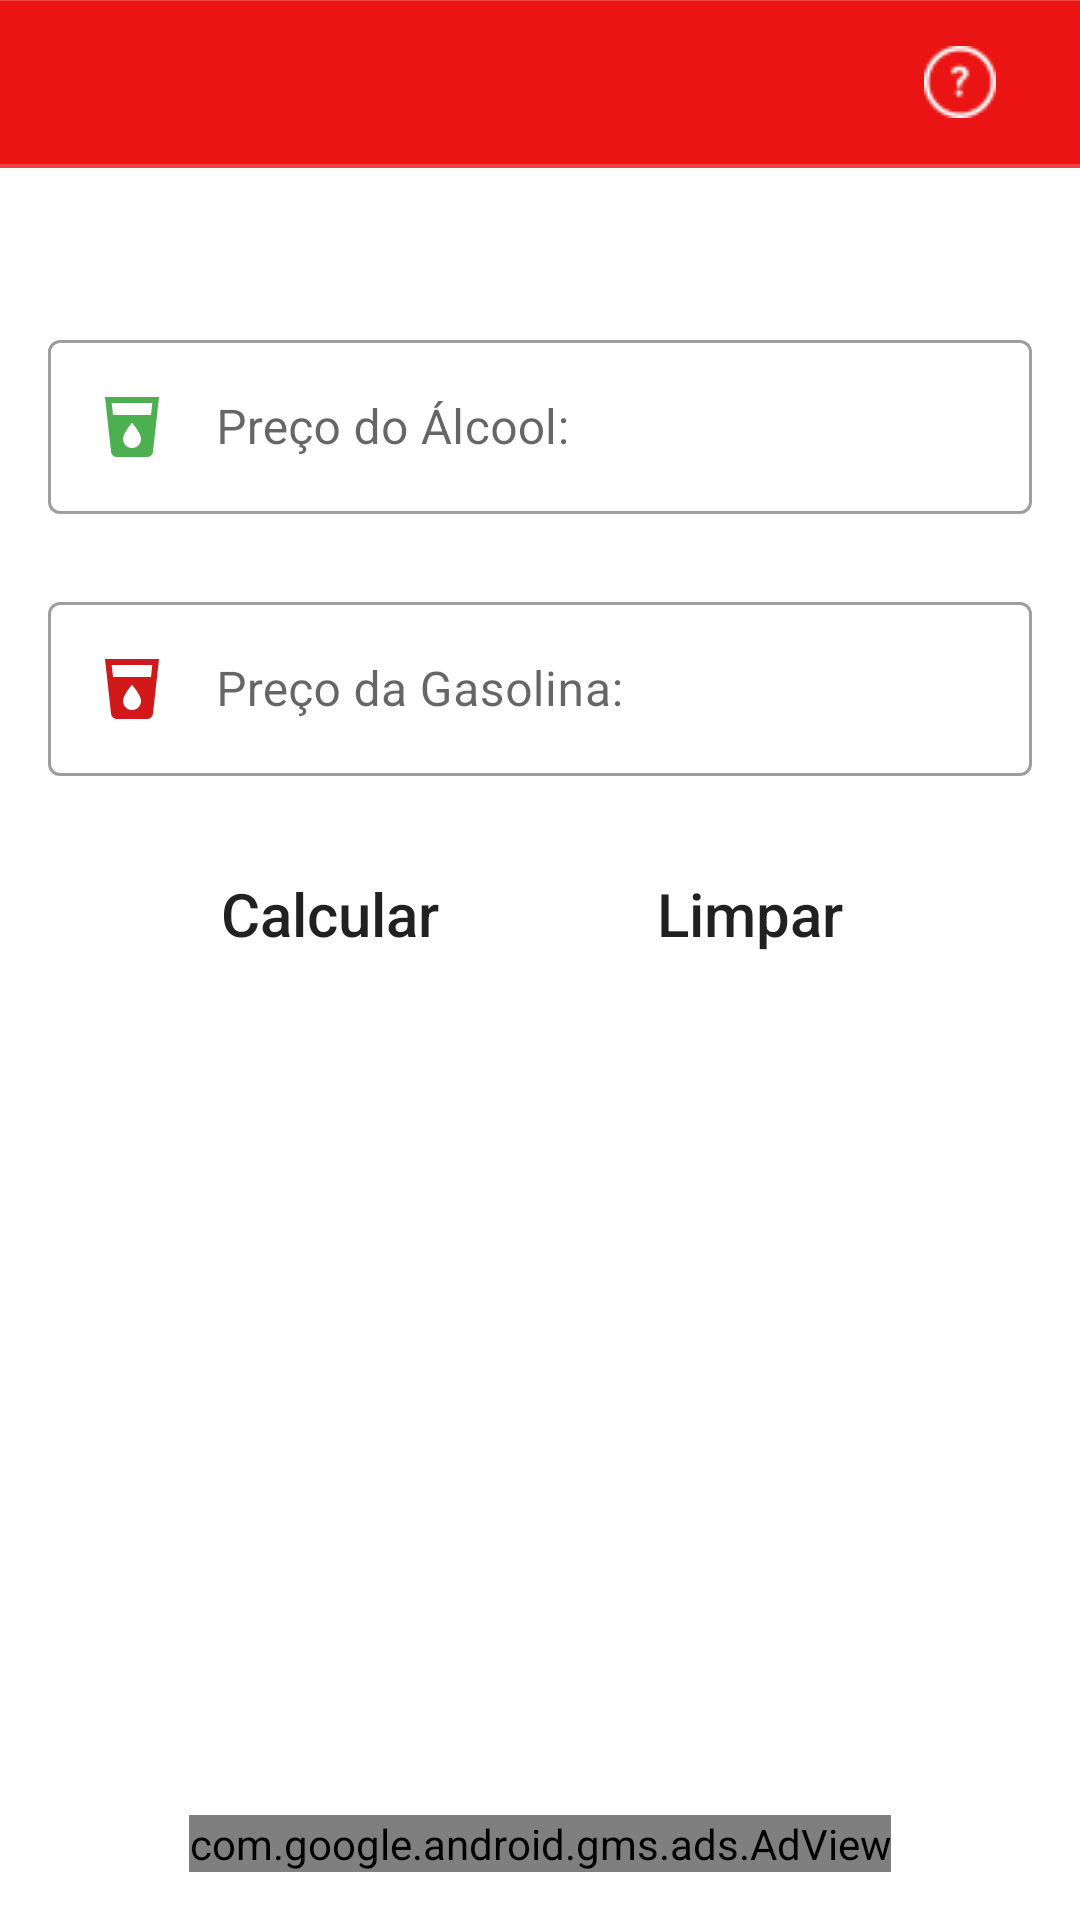

Screen size 1080*1920. Icon name, then its box in pixels as (x1, y1, x2, y2):
question: (924, 46, 996, 118)
